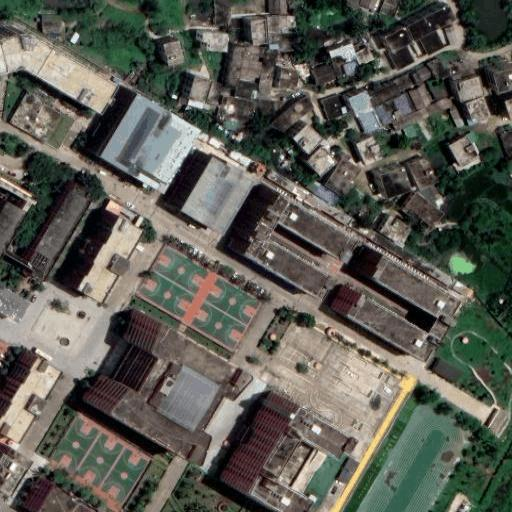building: (81, 307, 226, 450), (262, 315, 397, 423), (218, 394, 317, 512), (87, 91, 189, 192), (0, 19, 106, 79), (22, 177, 90, 268), (62, 210, 132, 297), (169, 152, 243, 232), (352, 246, 433, 309), (330, 284, 411, 346), (1, 84, 75, 150), (236, 230, 311, 292), (261, 194, 331, 251), (226, 187, 275, 254), (22, 478, 93, 512), (271, 96, 315, 135), (401, 187, 443, 225), (227, 46, 264, 88), (322, 157, 359, 196), (371, 160, 407, 194), (0, 445, 23, 496), (0, 284, 29, 322), (404, 153, 435, 186), (0, 199, 22, 245), (446, 132, 477, 163), (290, 122, 321, 153), (222, 143, 256, 171), (480, 402, 509, 434), (304, 145, 334, 175), (451, 68, 480, 99), (257, 49, 276, 95), (376, 214, 407, 242), (388, 103, 425, 126), (364, 79, 397, 103), (324, 93, 352, 121), (350, 134, 377, 162), (403, 80, 430, 107), (462, 91, 488, 119), (484, 61, 512, 86), (433, 359, 462, 383), (180, 69, 205, 96), (344, 87, 369, 113), (421, 73, 445, 100), (158, 36, 181, 62), (388, 88, 411, 114), (330, 44, 357, 66), (444, 55, 470, 77), (390, 68, 413, 91), (425, 51, 447, 75), (222, 96, 255, 112), (235, 78, 259, 100), (496, 127, 512, 160), (310, 64, 335, 85), (367, 98, 388, 122), (261, 15, 290, 32), (354, 106, 375, 129), (196, 30, 222, 48), (316, 184, 339, 204), (338, 461, 357, 484), (254, 98, 282, 113), (245, 18, 261, 43), (41, 14, 62, 33), (444, 101, 460, 125), (279, 70, 299, 89), (296, 61, 313, 83), (497, 91, 512, 115), (226, 109, 249, 124), (354, 48, 373, 66), (345, 436, 363, 455), (105, 199, 123, 216), (342, 61, 360, 76), (306, 178, 322, 194), (413, 61, 428, 78), (417, 113, 430, 132), (330, 59, 344, 76), (421, 98, 438, 112), (441, 315, 458, 328), (434, 93, 449, 107), (401, 119, 415, 134), (407, 66, 419, 83), (34, 348, 51, 360), (383, 104, 396, 117), (69, 31, 81, 44), (184, 93, 198, 104), (430, 336, 443, 347), (223, 121, 238, 130), (467, 132, 477, 143), (217, 108, 228, 118), (235, 132, 244, 142), (317, 138, 326, 147), (123, 233, 132, 242), (125, 213, 133, 223), (461, 114, 470, 122), (478, 82, 485, 92), (270, 44, 280, 50), (48, 32, 59, 37), (180, 91, 187, 97)
